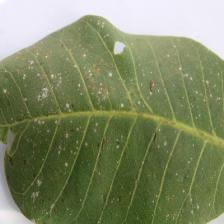red rust: (0, 13, 223, 223)
